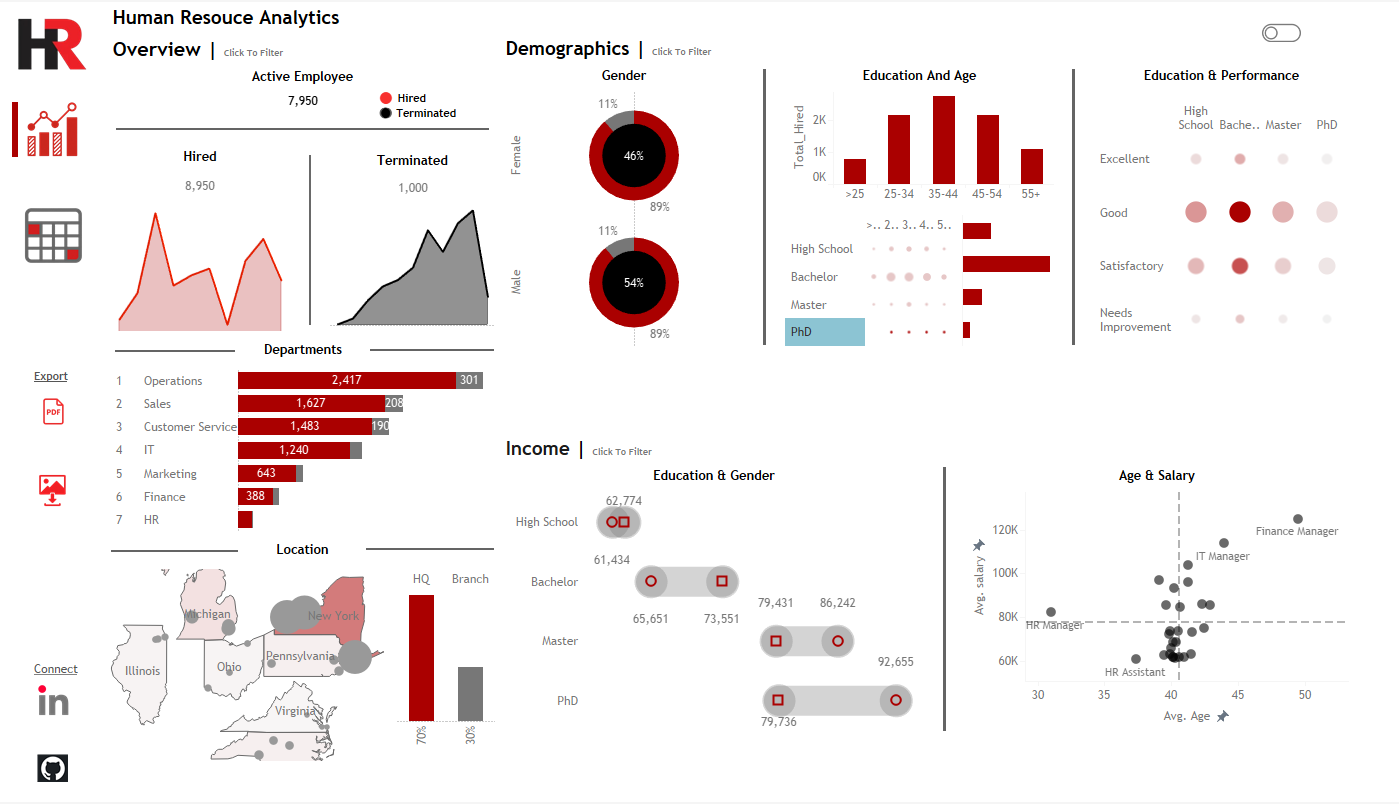

The dashboard page shown, as its layout file describes it:
{"tool":"tableau","page":{"name":"HR Summary","canvas":[1400,800],"ordinal":1},"visuals":[{"type":"image","param":"Image/2.png","box":[0,0,1400,800]},{"type":"image","param":"Image/HR_LOgo-removebg-preview.png","box":[0,0,106,80]},{"type":"text","box":[106,0,639.5,31]},{"type":"blank","box":[745.5,0,607.5,31]},{"type":"filter","title":"Gender Vs Education level","param":"[federated.11pcu481hapddk19h84io0p9il4y].[none:gender:nk]","box":[795,9,117,44]},{"type":"filter","title":"Gender Vs Education level","param":"[federated.11pcu481hapddk19h84io0p9il4y].[none:Calculation_595601054213791754:nk","box":[912,9,117,44]},{"type":"filter","title":"Gender Vs Education level","param":"[federated.11pcu481hapddk19h84io0p9il4y].[none:Calculation_595601054155116549:nk","box":[1029,9,116,44]},{"type":"filter","title":"Gender Vs Education level","param":"[federated.11pcu481hapddk19h84io0p9il4y].[yr:hiredate:ok]","box":[1145,9,116,44]},{"type":"dashboard-object","box":[1261,9,40,42]},{"type":"text","box":[106,31,393,32]},{"type":"text","box":[499,31,854,31]},{"type":"text","box":[499,62,250,24]},{"type":"blank","box":[749,62,32,286]},{"type":"text","box":[781,62,282.2,24]},{"type":"blank","box":[1063.2,62,32,286]},{"type":"text","box":[1095.2,62,257.7,24]},{"type":"text","box":[106,63,393,24]},{"type":"dashboard-object","box":[0,80,106,99]},{"type":"worksheet","title":"Gender","mark":"Pie","rows":["gender"],"cols":["Calculation_595601054160109575","Calculation_595601054160109575"],"box":[499,86,250,262]},{"type":"worksheet","title":"Age Group","mark":"Bar","rows":["Calculation_595601054145646592"],"cols":["Calculation_595601054163075081"],"box":[781,86,282.2,123]},{"type":"worksheet","title":"Education vs Performance","mark":"Circle","rows":["performance_rating"],"cols":["education_level"],"box":[1095.2,86,257.7,262]},{"type":"worksheet","title":"BAN Active","mark":"Text","box":[106,87,393,24.2]},{"type":"text","box":[375,89,100,31]},{"type":"blank","box":[12,100,6,55]},{"type":"blank","box":[106,111.2,393,32]},{"type":"text","box":[106,143.3,188,24]},{"type":"blank","box":[294,143.3,32,190]},{"type":"text","box":[326,143.3,172.9,32]},{"type":"worksheet","title":"BAN Heired","mark":"Text","box":[106,167.3,188,33]},{"type":"worksheet","title":"BAN Terminated","mark":"Text","box":[326,175.3,172.9,22]},{"type":"dashboard-object","box":[0,179,106,106]},{"type":"worksheet","title":"Terminated by Year","mark":"Line","rows":["Calculation_595601054145937409","Calculation_595601054145937409"],"cols":["termdate"],"box":[326,197.3,172.9,136]},{"type":"worksheet","title":"Hired By Year","mark":"Line","rows":["Calculation_595601054145646592","Calculation_595601054145646592"],"cols":["hiredate"],"box":[106,200.3,188,133]},{"type":"worksheet","title":"Age VS Education","mark":"Circle","rows":["education_level"],"cols":["Calculation_595601054163075081"],"box":[781,209,182.1,139]},{"type":"worksheet","title":"Education level","mark":"Bar","rows":["education_level"],"cols":["Calculation_595601054145646592"],"box":[963.1,209,100.1,139]},{"type":"blank","box":[0,285,106,77]},{"type":"blank","box":[106,333.3,133.7,30]},{"type":"text","box":[239.7,333.3,125.7,30]},{"type":"blank","box":[365.3,333.3,133.7,30]},{"type":"text","box":[1,359,100,30]},{"type":"dashboard-object","box":[0,362,106,94]},{"type":"worksheet","title":"Departments","mark":"Bar","rows":["Calculation_595601054154420228","department"],"cols":["Calculation_595601054145646592"],"box":[106,363.3,393,169.7]},{"type":"text","box":[499,431,854,31]},{"type":"dashboard-object","box":[0,456,106,64]},{"type":"text","box":[499,462,430,24]},{"type":"blank","box":[929,462,32,270]},{"type":"text","box":[961,462,392,24]},{"type":"worksheet","title":"Gender Vs Education level","mark":"Circle","rows":["education_level"],"cols":["salary","salary"],"box":[499,486,430,246]},{"type":"worksheet","title":"Age vs Salary","mark":"Shape","rows":["salary"],"cols":["Calculation_595601054162505736"],"box":[961,486,392,246]},{"type":"blank","box":[0,520,106,144]},{"type":"blank","box":[106,533,135,30]},{"type":"text","box":[241,533,123,30]},{"type":"blank","box":[364,533,135,30]},{"type":"worksheet","title":"Map States","mark":"Automatic","box":[106,563,287,200]},{"type":"worksheet","title":"Location","mark":"Bar","rows":["Calculation_595601054145646592"],"cols":["Calculation_595601054155116549","Calculation1"],"box":[393,563,106,200]},{"type":"text","box":[6,652,100,30]},{"type":"image","param":"Image/contact-linkedin.PNG","box":[0,664,106,68]},{"type":"image","param":"Image/github.png","box":[0,732,106,68]}]}

Visuals, with their boxes in screenshot pixels (x1, y1, x2, y2), scaled from the page's 1400x800 canvas onto the 1399x804 screenshot:
image: 0,0,1398,803
image: 0,0,106,80
text: 106,0,745,31
blank: 745,0,1352,31
"Gender Vs Education level" filter: 794,9,911,53
"Gender Vs Education level" filter: 911,9,1028,53
"Gender Vs Education level" filter: 1028,9,1144,53
"Gender Vs Education level" filter: 1144,9,1260,53
dashboard-object: 1260,9,1300,51
text: 106,31,499,63
text: 499,31,1352,62
text: 499,62,748,86
blank: 748,62,780,350
text: 780,62,1062,86
blank: 1062,62,1094,350
text: 1094,62,1352,86
text: 106,63,499,87
dashboard-object: 0,80,106,180
"Gender" worksheet (Pie marks): 499,86,748,350
"Age Group" worksheet (Bar marks): 780,86,1062,210
"Education vs Performance" worksheet (Circle marks): 1094,86,1352,350
"BAN Active" worksheet (Text marks): 106,87,499,112
text: 375,89,475,121
blank: 12,100,18,156
blank: 106,112,499,144
text: 106,144,294,168
blank: 294,144,326,335
text: 326,144,499,176
"BAN Heired" worksheet (Text marks): 106,168,294,201
"BAN Terminated" worksheet (Text marks): 326,176,499,198
dashboard-object: 0,180,106,286
"Terminated by Year" worksheet (Line marks): 326,198,499,335
"Hired By Year" worksheet (Line marks): 106,201,294,335
"Age VS Education" worksheet (Circle marks): 780,210,962,350
"Education level" worksheet (Bar marks): 962,210,1062,350
blank: 0,286,106,364
blank: 106,335,240,365
text: 240,335,365,365
blank: 365,335,499,365
text: 1,361,101,391
dashboard-object: 0,364,106,458
"Departments" worksheet (Bar marks): 106,365,499,536
text: 499,433,1352,464
dashboard-object: 0,458,106,523
text: 499,464,928,488
blank: 928,464,960,736
text: 960,464,1352,488
"Gender Vs Education level" worksheet (Circle marks): 499,488,928,736
"Age vs Salary" worksheet (Shape marks): 960,488,1352,736
blank: 0,523,106,667
blank: 106,536,241,566
text: 241,536,364,566
blank: 364,536,499,566
"Map States" worksheet: 106,566,393,767
"Location" worksheet (Bar marks): 393,566,499,767
text: 6,655,106,685
image: 0,667,106,736
image: 0,736,106,803
